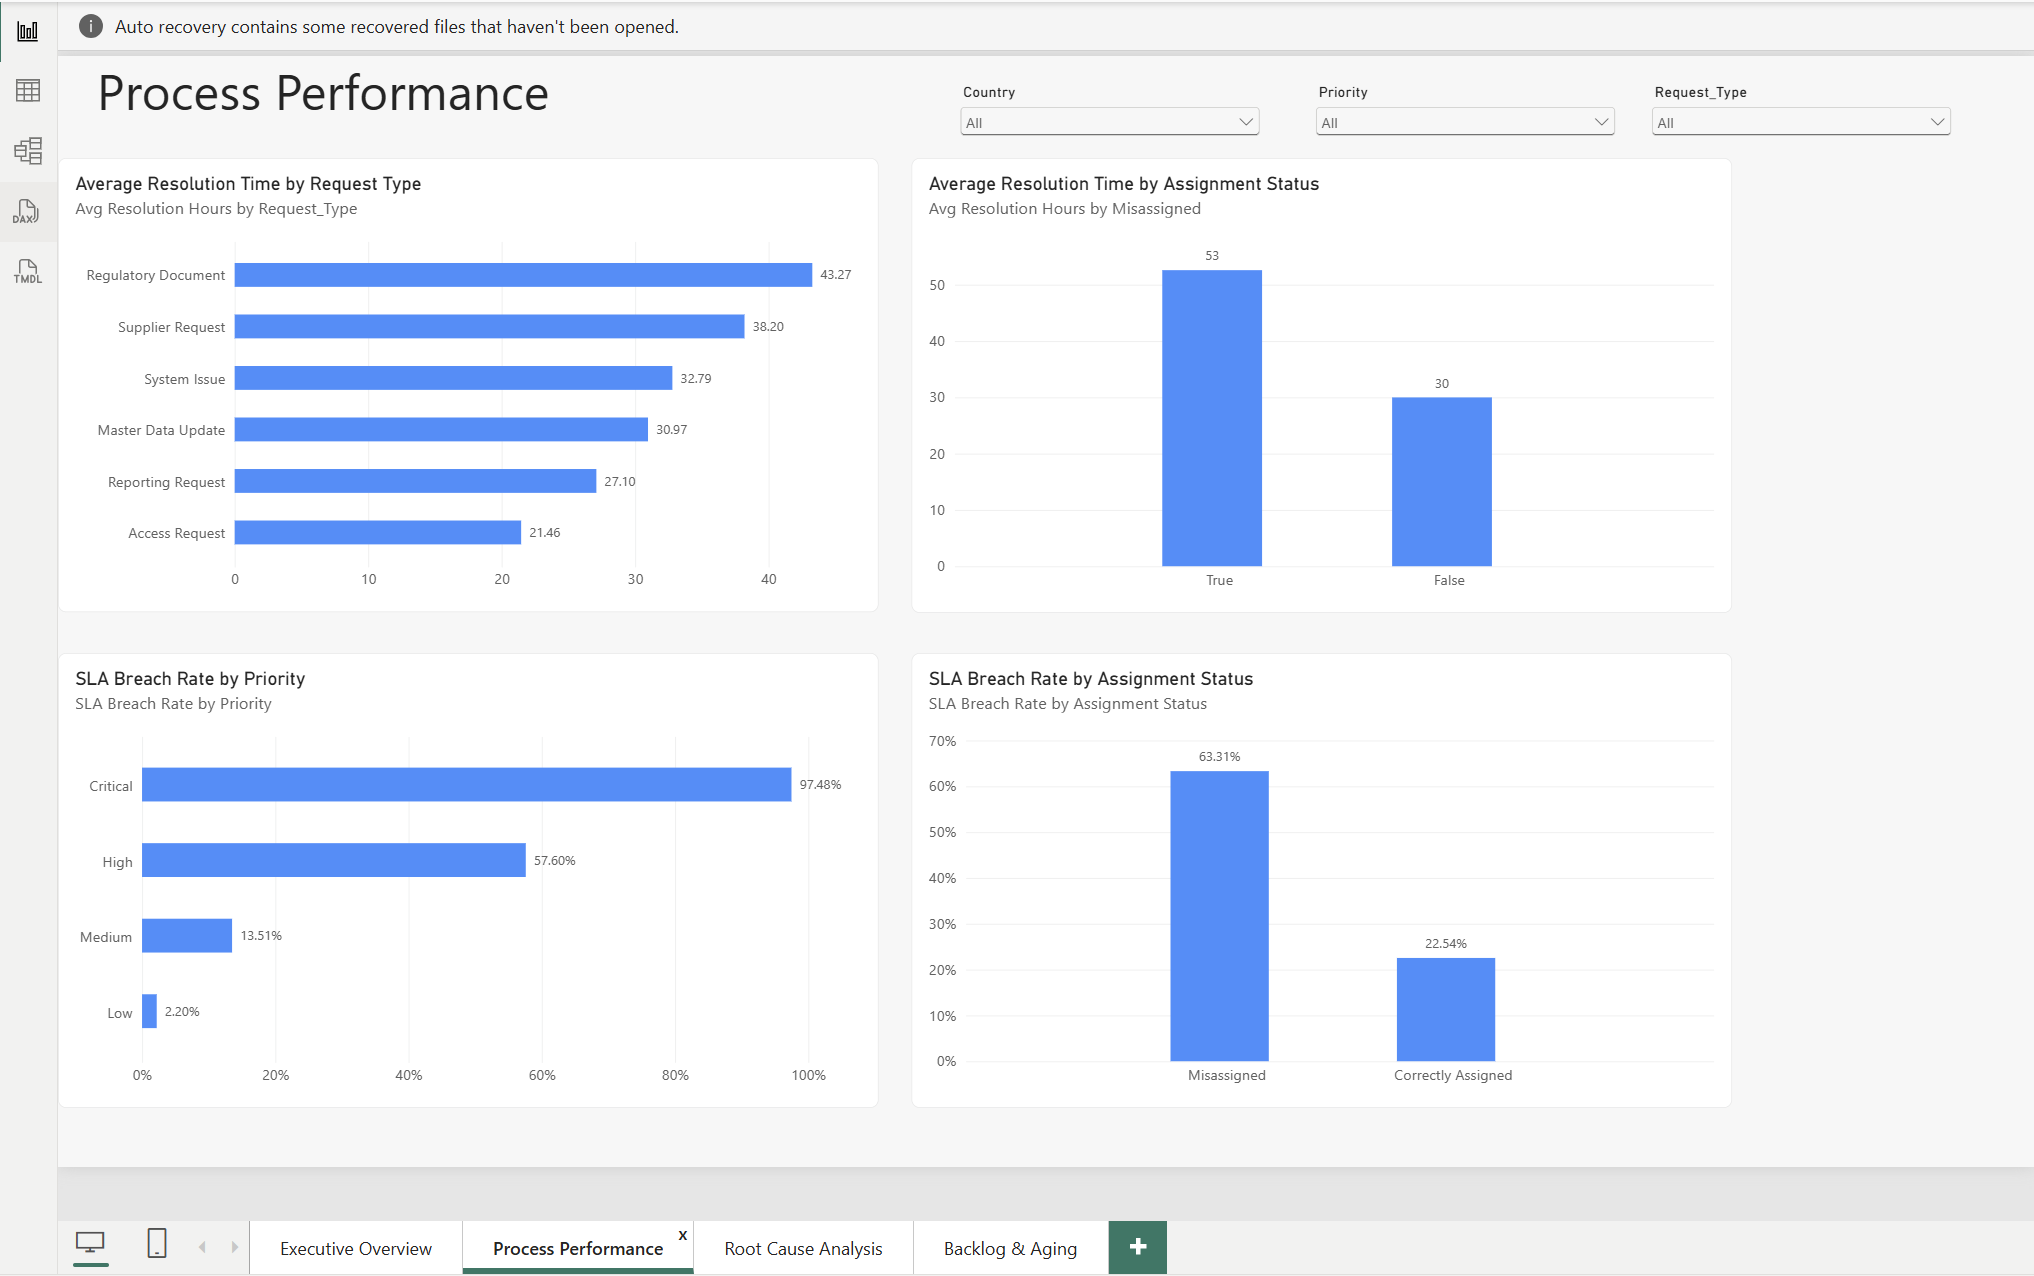

What the dashboard file says about the page in this screenshot:
{"tool":"powerbi","page":{"name":"Process Performance","canvas":[1920,1080],"ordinal":1},"visuals":[{"type":"clusteredBarChart","title":"Average Resolution Time by Request Type","fields":{"Category":["BusinessRequests.Request_Type"],"Y":["BusinessRequests.Avg Resolution Hours"]},"box":[0,98.5,797.3,441.6],"z":0},{"type":"clusteredBarChart","title":"SLA Breach Rate by Priority","fields":{"Category":["BusinessRequests.Priority"],"Y":["BusinessRequests.SLA Breach Rate"]},"box":[0,580.1,797,442],"z":1},{"type":"clusteredColumnChart","title":"Average Resolution Time by Assignment Status","fields":{"Category":["BusinessRequests.Misassigned"],"Y":["BusinessRequests.Avg Resolution Hours"]},"box":[829,98.5,797,442],"z":2},{"type":"clusteredColumnChart","title":"SLA Breach Rate by Assignment Status","fields":{"Category":["BusinessRequests.Assignment Status"],"Y":["BusinessRequests.SLA Breach Rate"]},"box":[829,580.1,797,442],"z":3},{"type":"textbox","box":[37.6,0,761,96.7],"z":4},{"type":"slicer","fields":{"Values":["BusinessRequests.Country"]},"box":[872,26.9,300.8,69.8],"z":5},{"type":"slicer","fields":{"Values":["BusinessRequests.Priority"]},"box":[1217.5,26.9,300.8,69.8],"z":6},{"type":"slicer","fields":{"Values":["BusinessRequests.Request_Type"]},"box":[1543.4,26.9,300.8,69.8],"z":7}]}

Visuals, with their boxes on the page's 1920x1080 design canvas (x1, y1, x2, y2). These are canvas units, not pixel positions in the 2034x1276 screenshot, which may show the page scaled, cropped or inside an application window:
"Average Resolution Time by Request Type" clusteredBarChart: (x1=0, y1=98, x2=797, y2=540)
"SLA Breach Rate by Priority" clusteredBarChart: (x1=0, y1=580, x2=797, y2=1022)
"Average Resolution Time by Assignment Status" clusteredColumnChart: (x1=829, y1=98, x2=1626, y2=540)
"SLA Breach Rate by Assignment Status" clusteredColumnChart: (x1=829, y1=580, x2=1626, y2=1022)
textbox: (x1=38, y1=0, x2=799, y2=97)
slicer - BusinessRequests.Country: (x1=872, y1=27, x2=1173, y2=97)
slicer - BusinessRequests.Priority: (x1=1218, y1=27, x2=1518, y2=97)
slicer - BusinessRequests.Request_Type: (x1=1543, y1=27, x2=1844, y2=97)
